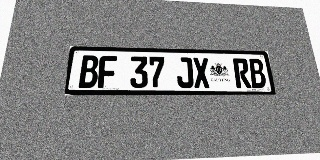3: (130, 56, 148, 88)
7: (148, 57, 165, 88)
B: (78, 55, 99, 88), (248, 59, 267, 88)
F: (98, 56, 117, 88)
J: (176, 57, 194, 88)
R: (233, 58, 252, 88)
X: (192, 57, 211, 88)
